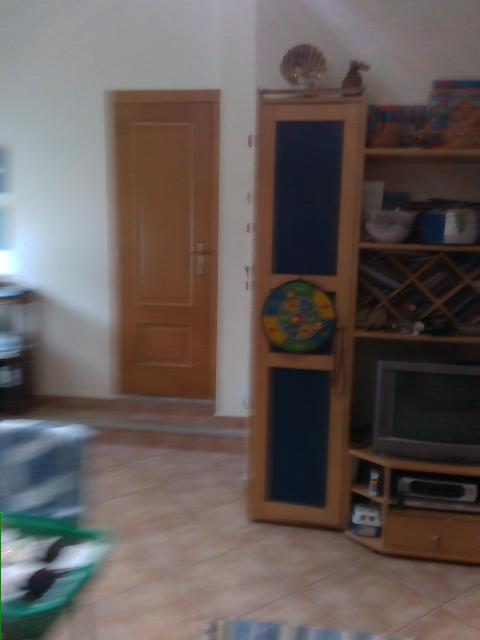door: (109, 87, 223, 398)
